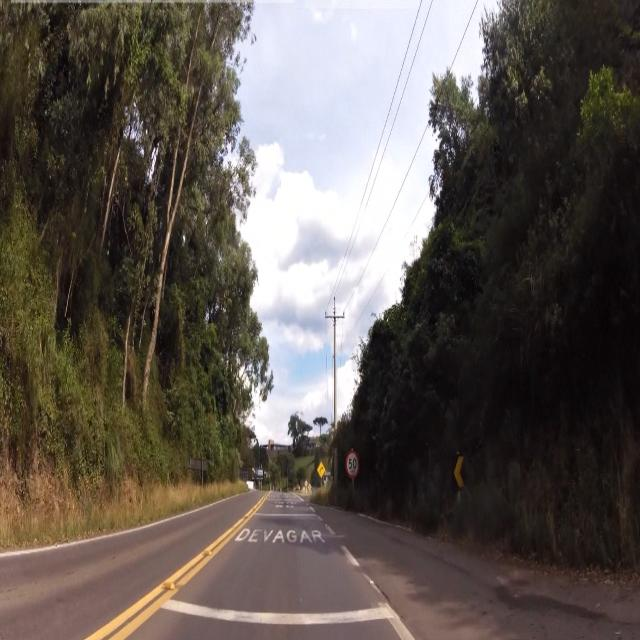Del: (450, 448, 468, 494)
R-19: (346, 448, 359, 478)
